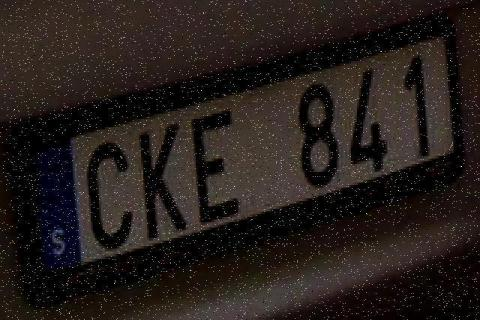LicensePlate: (16, 24, 462, 280)
